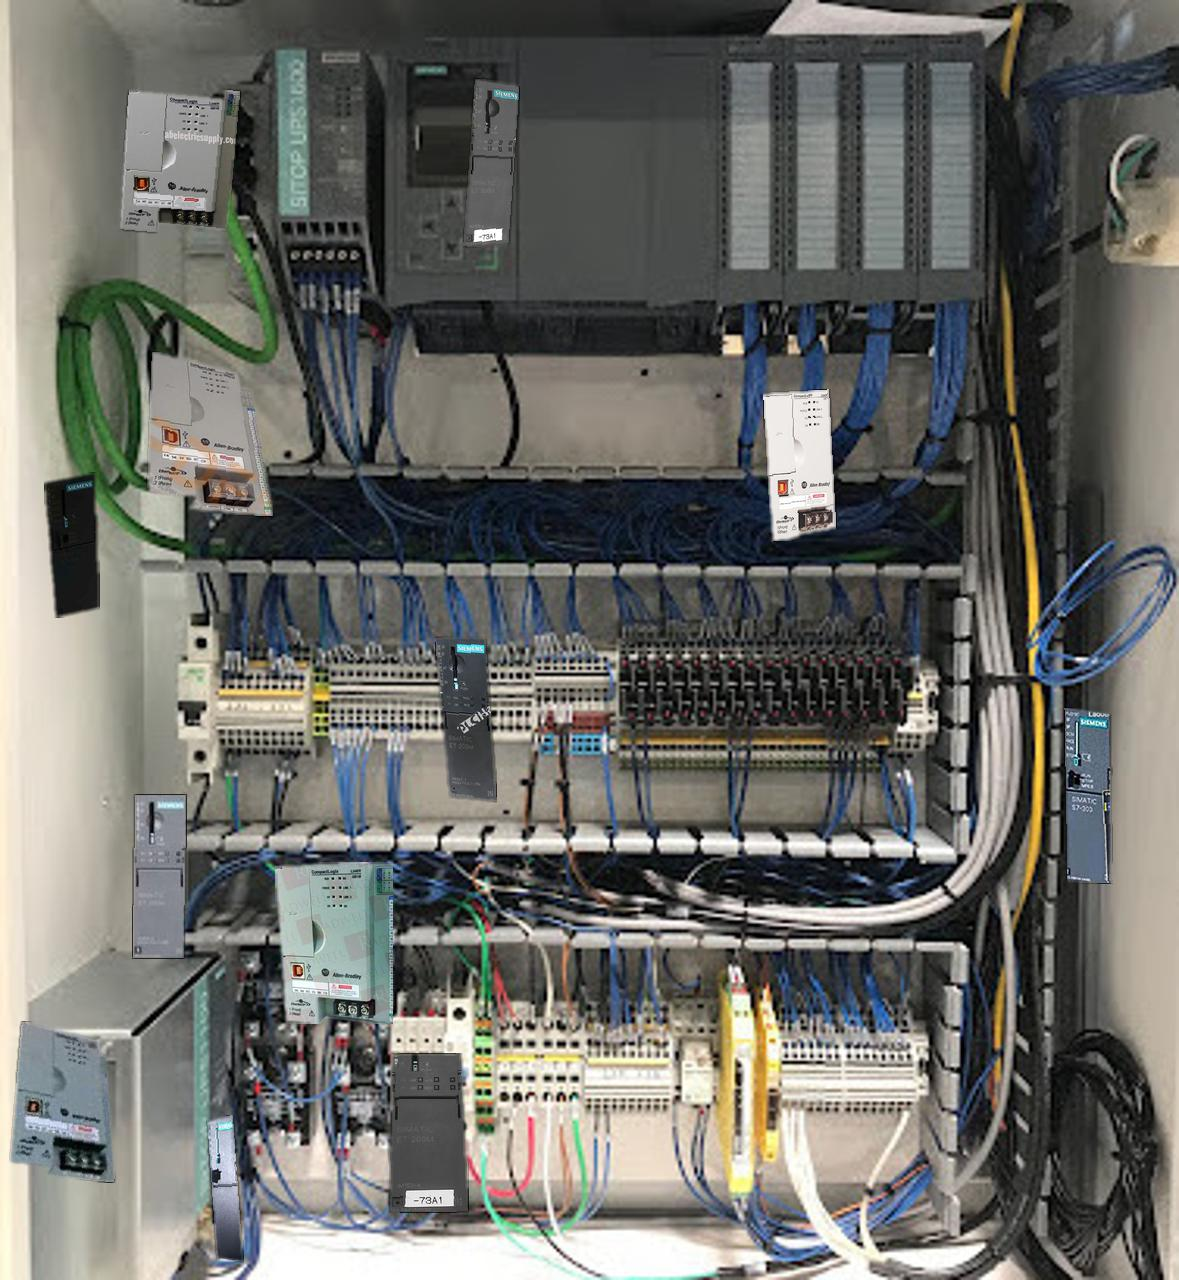AllenBradley: (148, 352, 272, 515), (276, 862, 392, 1024), (120, 90, 239, 231), (11, 1022, 114, 1181), (763, 389, 835, 540)
Siemens: (1064, 708, 1110, 882), (45, 473, 98, 615), (207, 1115, 242, 1260)
